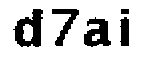7: (49, 6, 79, 50)
a: (81, 18, 112, 51)
d: (12, 6, 43, 50)
i: (117, 6, 136, 51)
